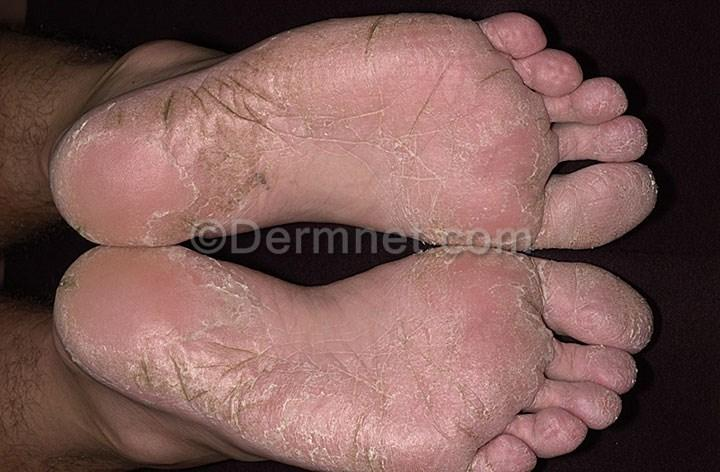Eczema: (309, 122, 489, 221), (367, 326, 547, 412), (298, 29, 477, 115), (104, 346, 321, 412), (119, 105, 238, 212), (179, 271, 279, 342), (260, 415, 416, 459), (494, 90, 543, 209), (241, 55, 299, 135), (415, 256, 465, 324), (43, 265, 106, 306), (592, 303, 648, 344), (504, 258, 541, 304)
